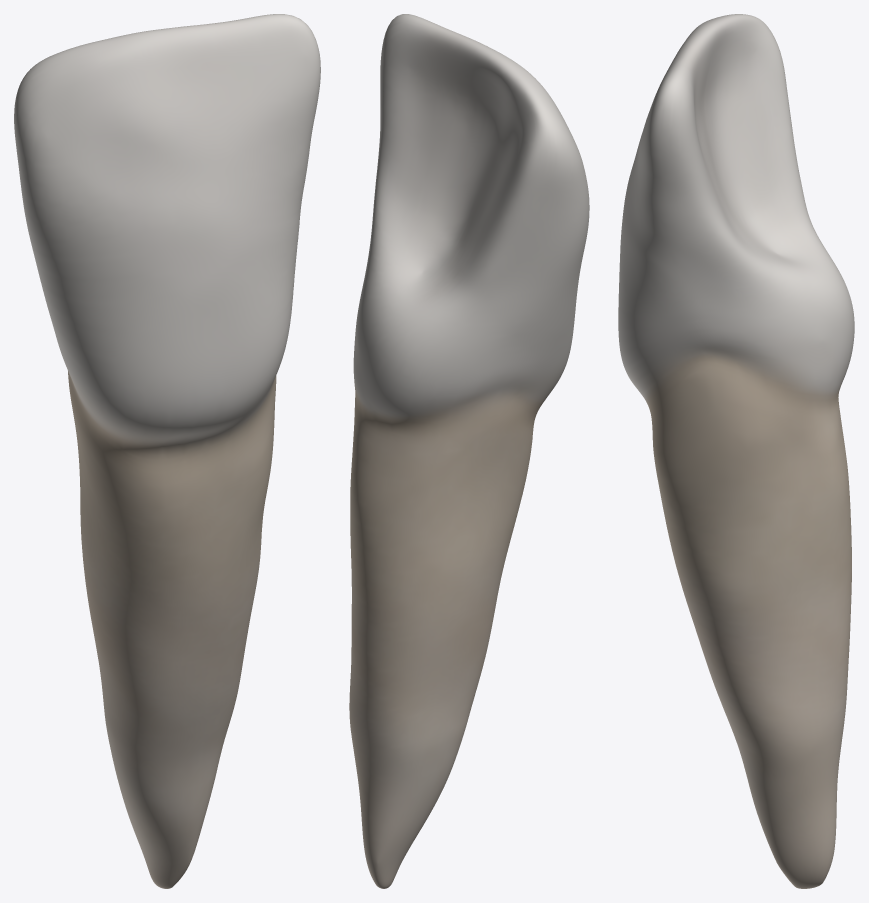
3 renders of one model, left to right at view 1: azimuth 30°, elevation 25°; view 2: azimuth 150°, elevation 25°; view 3: azimuth 270°, elevation 25°, orthographic. The views are drawn at different scales.
Parts seen in each view (by area): view 1: diente-82; view 2: diente-82; view 3: diente-82.
Boxes of the visible parts, bbox=[...] form: diente-82: bbox=[14, 14, 320, 888]; diente-82: bbox=[349, 14, 589, 888]; diente-82: bbox=[618, 14, 854, 888].
Size of the model in its own units: 0.00441 by 0.015 by 0.00385.
